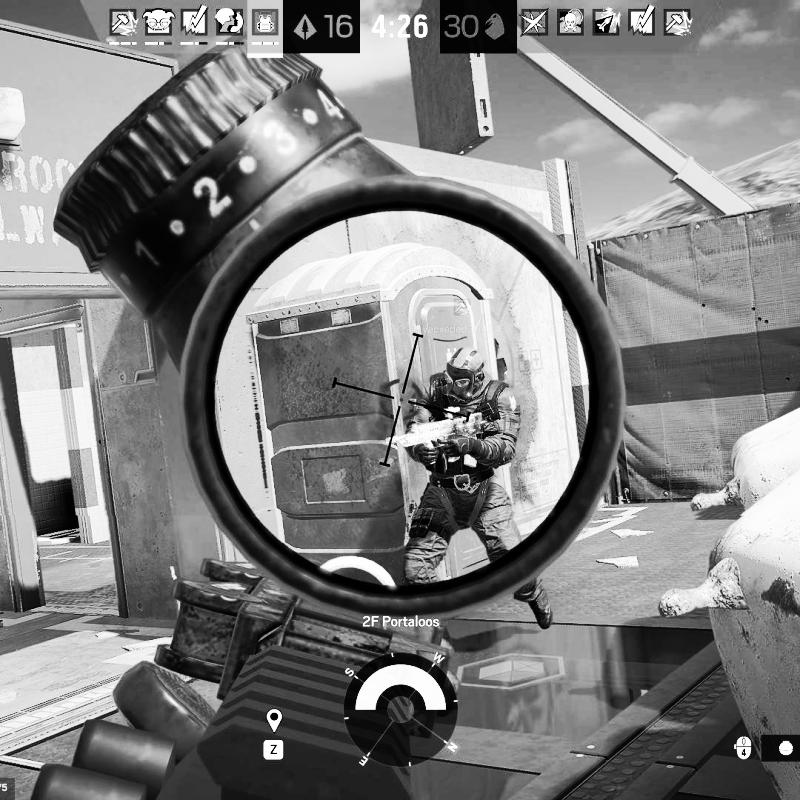Character: (386, 343, 555, 634)
Friend_label: (423, 295, 503, 336), (412, 335, 425, 340)
Head: (442, 347, 487, 398)
